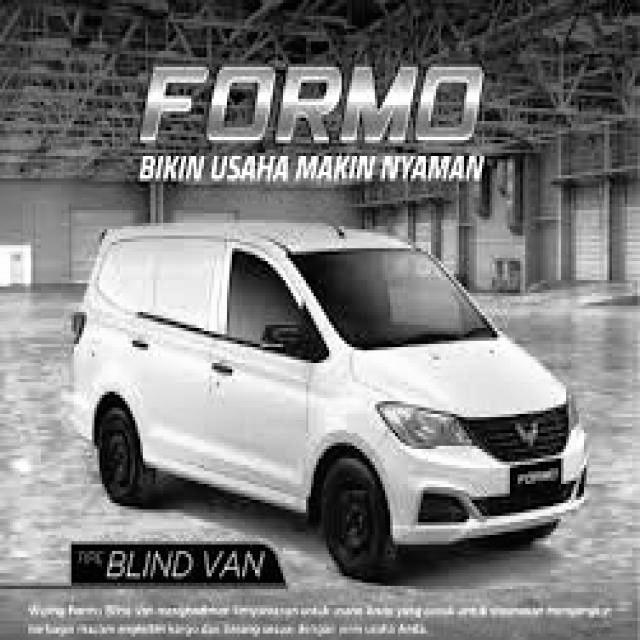Car: (74, 202, 598, 591)
